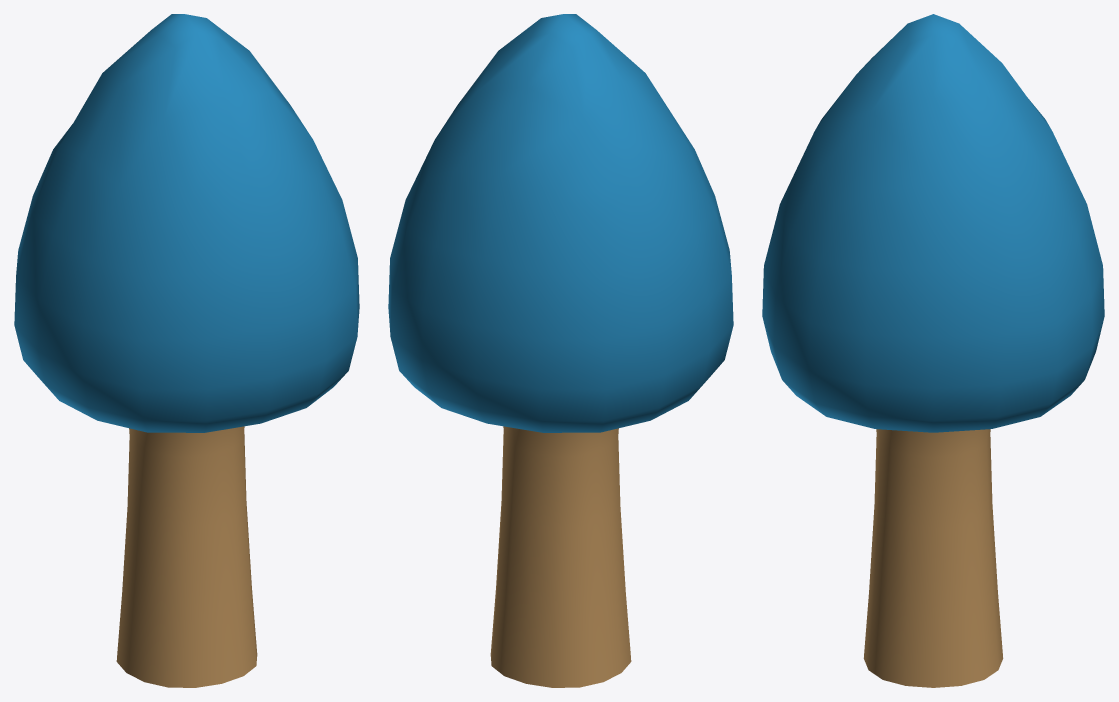
The model's file is prop45.fbx.
3 views of the same model, side by side, from view 1: azimuth 30°, elevation 25°; view 2: azimuth 150°, elevation 25°; view 3: azimuth 270°, elevation 25° (orthographic).
Visible parts, largest first — view 1: Cube.027; view 2: Cube.027; view 3: Cube.027.
Boxes of the visible parts, <box> form: Cube.027: <box>14,14,359,687</box>; Cube.027: <box>388,14,733,687</box>; Cube.027: <box>762,14,1104,687</box>.
Bounding box in the file's own units: 0.3465 × 0.3465 × 0.7183.
